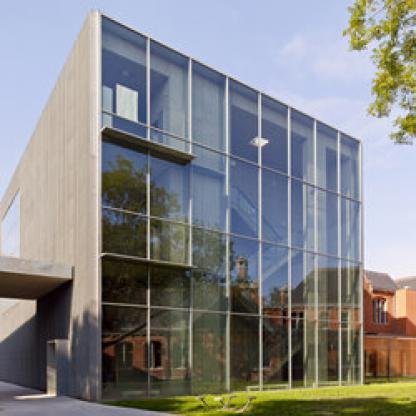window: (108, 32, 140, 108), (155, 54, 181, 126), (160, 314, 184, 390), (113, 318, 138, 386), (198, 76, 221, 142), (201, 236, 220, 306), (156, 164, 182, 214), (115, 154, 140, 204), (236, 243, 253, 306), (201, 323, 218, 384), (266, 250, 283, 308), (268, 323, 284, 383), (108, 216, 138, 246), (238, 321, 253, 381), (200, 175, 218, 223), (236, 98, 252, 152), (296, 188, 311, 245), (238, 175, 253, 231), (270, 176, 284, 236), (108, 268, 140, 293), (268, 105, 281, 165), (158, 228, 185, 256), (298, 256, 311, 313), (298, 328, 311, 384), (298, 122, 311, 174), (321, 194, 333, 250), (160, 273, 183, 301), (321, 133, 333, 185), (323, 330, 334, 381), (324, 263, 334, 319), (343, 143, 354, 190), (346, 205, 356, 256), (346, 266, 356, 316), (348, 330, 358, 376)
